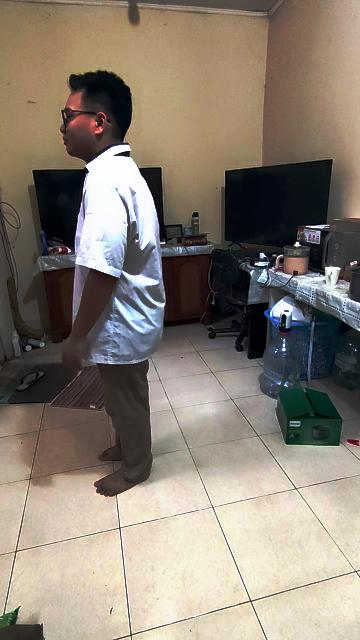berdiri: (48, 68, 164, 500)
